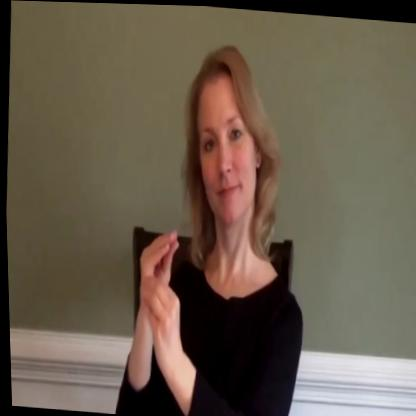Fix: (120, 211, 199, 386)
